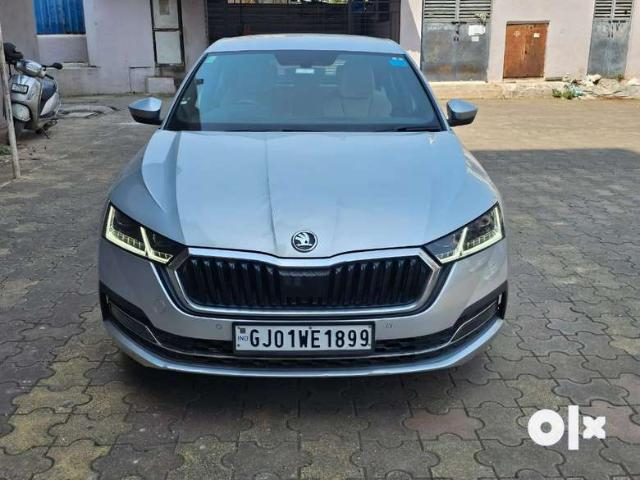Indian_Number_Plate: (234, 323, 374, 353)
